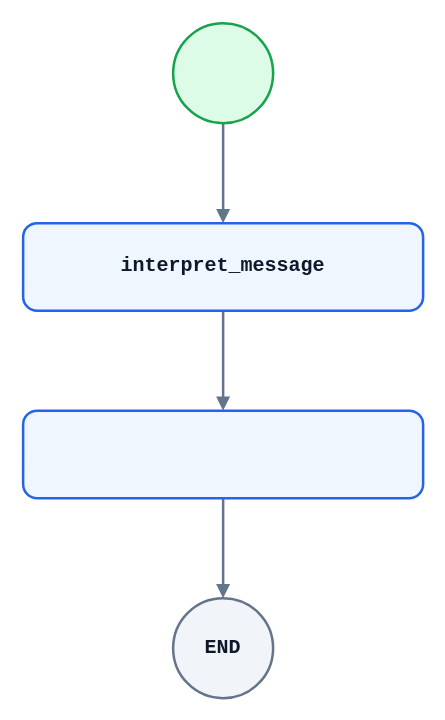
Some shapes in this 445 by 720 pixel diagram are drawn without their labels. Each missing label, with the centre of its shape:
START: the point at 222,72
validate_details: the point at 222,454
